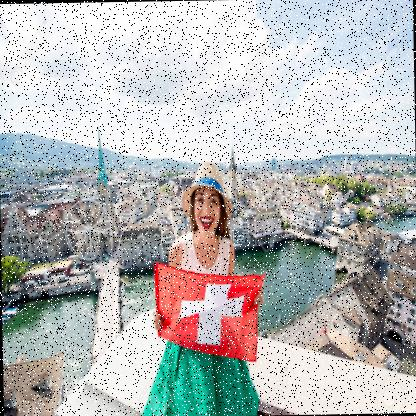ch: (154, 259, 264, 366)
